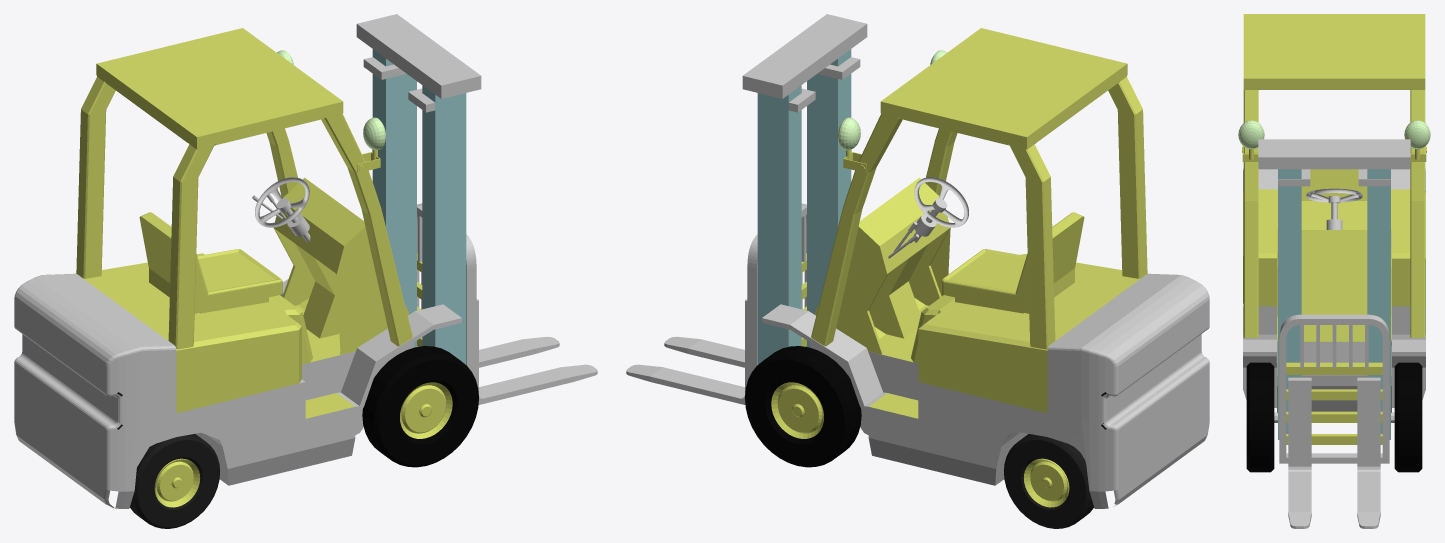
The model's file is Forklift.glb.
The picture shows the model from 3 angles, left to right: view 1: azimuth 30°, elevation 25°; view 2: azimuth 150°, elevation 25°; view 3: azimuth 270°, elevation 25°; orthographic projection. The views are drawn at different scales.
Parts seen in each view (by area): view 1: Cube_1, Roof, Forklift, Cube.3, Panel, FrontWheels, Cube.12, RearWheels, Cube.4, Cube.13_1, Cylinder_1, Cube.6 (+5 smaller); view 2: Cube_1, Roof, Forklift, Cube.3, Panel, FrontWheels, Cube.12, RearWheels, Cube.4, Cube.13_1, Cylinder_1, Cube.6 (+5 smaller); view 3: Roof, Forklift, Cube.13_1, Cube_1, Panel, FrontWheels, Cube.3, Cube.12, Sweep, Cube.4, Cube.6, Lights (+7 smaller).
Part boxes in pixels (x1,y1,x2,y2): Cube_1: (14, 273, 461, 508); Roof: (76, 28, 412, 349); Forklift: (372, 49, 466, 364); Cube.3: (79, 253, 312, 413); Panel: (273, 177, 409, 354); FrontWheels: (362, 346, 478, 467); Cube.12: (356, 14, 481, 98); RearWheels: (117, 392, 219, 528); Cube.4: (149, 249, 282, 313); Cube.13_1: (421, 272, 597, 404); Cylinder_1: (400, 382, 452, 438); Cube.6: (139, 212, 209, 302); Cube_1: (762, 273, 1209, 508); Roof: (811, 28, 1147, 349); Forklift: (757, 49, 851, 364); Cube.3: (911, 254, 1144, 413); Panel: (814, 177, 950, 354); FrontWheels: (745, 346, 861, 467); Cube.12: (742, 14, 867, 98); RearWheels: (1004, 392, 1107, 528); Cube.4: (941, 249, 1074, 313); Cube.13_1: (626, 272, 802, 404); Cylinder_1: (771, 382, 823, 438); Cube.6: (1015, 212, 1084, 308); Roof: (1243, 14, 1425, 337); Forklift: (1278, 169, 1390, 439); Cube.13_1: (1288, 377, 1380, 528); Cube_1: (1243, 168, 1425, 412); Panel: (1277, 230, 1391, 344); FrontWheels: (1246, 362, 1422, 472); Cube.3: (1243, 189, 1425, 316); Cube.12: (1258, 139, 1410, 169); Sweep: (1279, 314, 1389, 463); Cube.4: (1301, 201, 1367, 229); Cube.6: (1301, 169, 1367, 200); Lights: (1238, 120, 1430, 149).
Bounding box in the file's own units: 2.49 × 1.8 × 0.8919.
